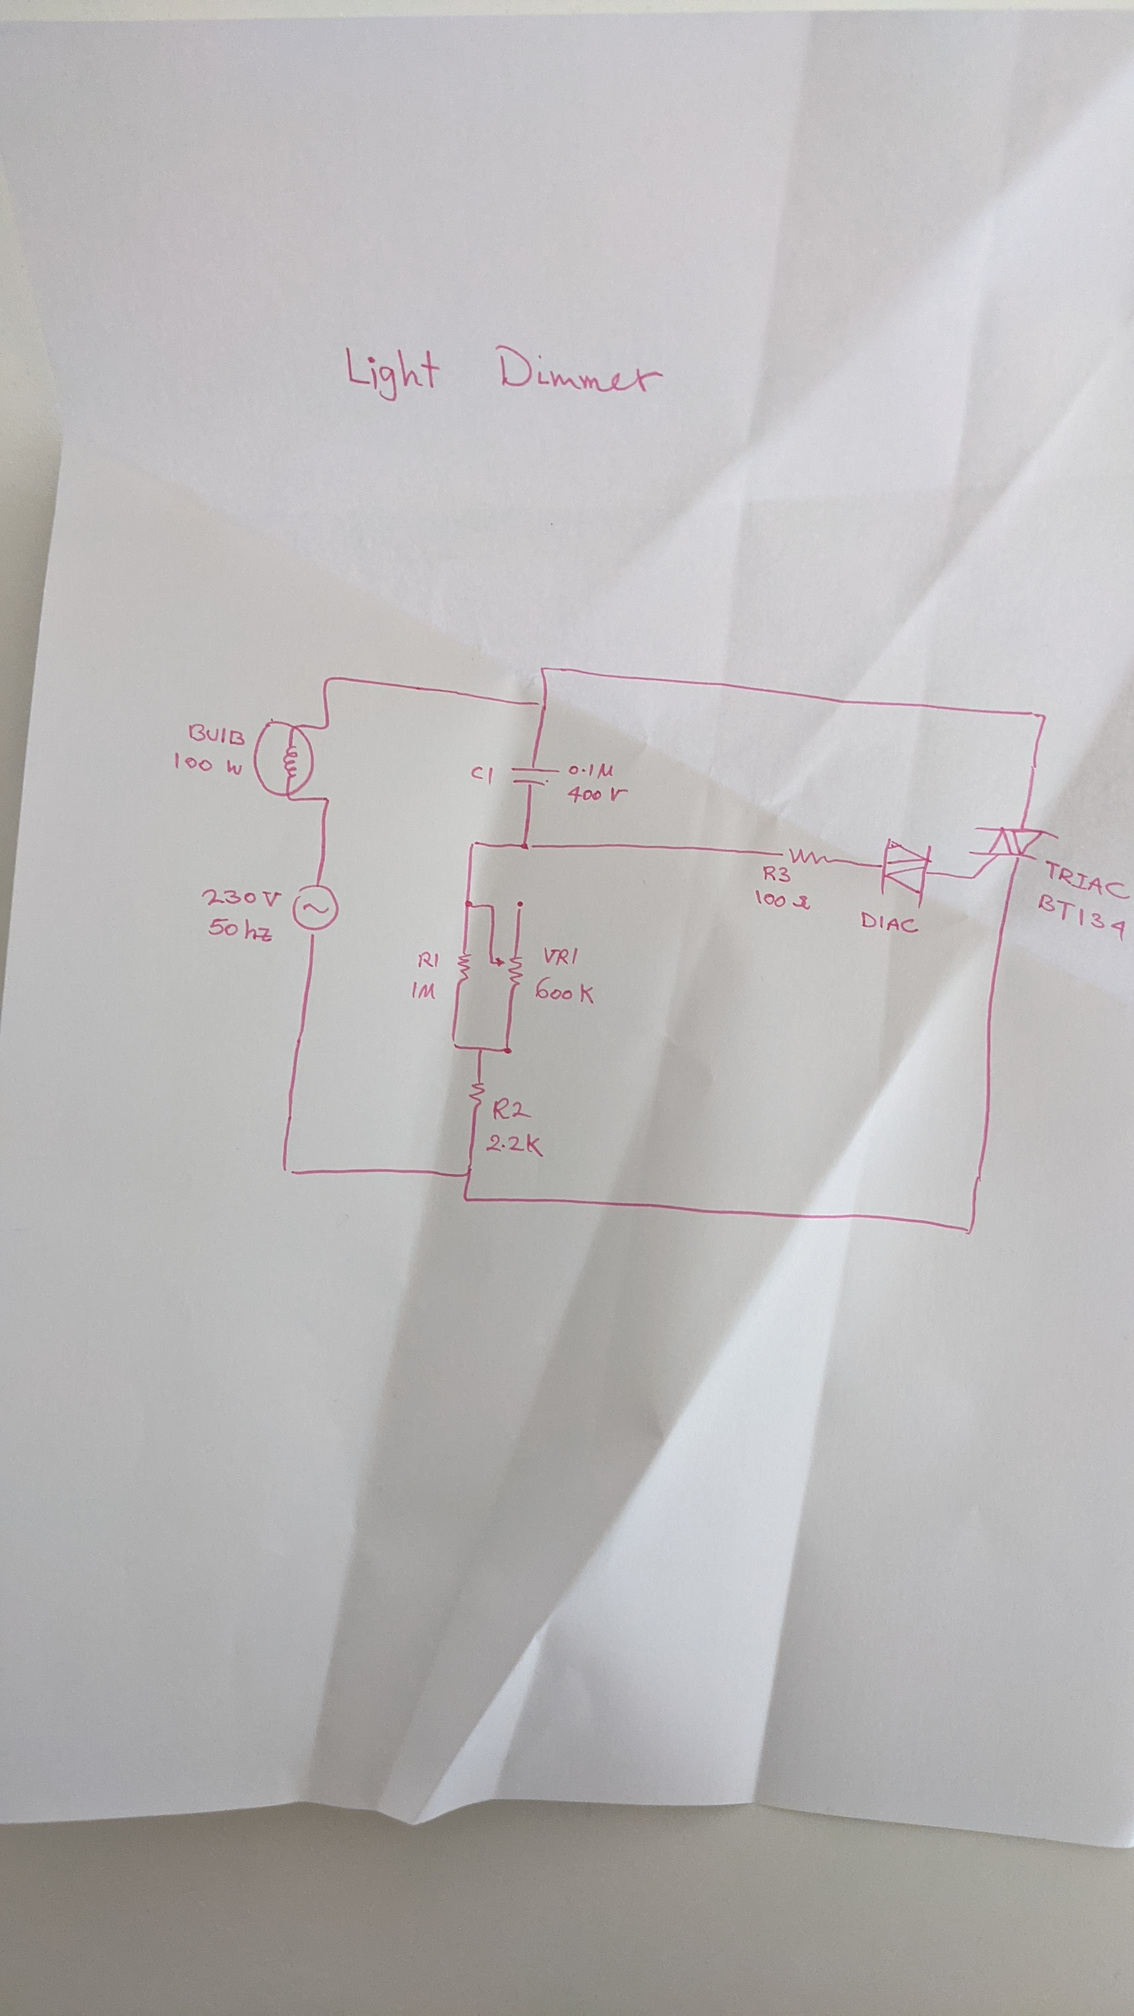capacitor.unpolarized: (507, 762, 562, 791)
diac: (876, 834, 935, 911)
junction: (516, 839, 540, 853), (1030, 709, 1052, 723), (462, 1160, 476, 1180), (961, 1223, 978, 1238), (280, 1163, 296, 1178), (534, 698, 552, 712), (500, 1040, 514, 1056), (467, 838, 480, 852), (514, 899, 528, 912), (474, 1043, 487, 1056), (321, 672, 334, 685), (449, 1036, 461, 1050), (460, 1192, 472, 1205), (462, 899, 476, 910), (320, 793, 332, 804), (320, 721, 332, 732), (537, 663, 548, 674), (486, 901, 498, 911), (966, 872, 979, 882)
lamp: (252, 716, 316, 803)
resistor: (778, 845, 832, 867), (454, 944, 474, 987), (465, 1074, 486, 1110)
resistor.adjustable: (486, 951, 525, 990)
text: (341, 341, 666, 404), (1036, 890, 1128, 944), (1043, 858, 1133, 901), (532, 973, 597, 1007), (172, 750, 245, 780), (206, 914, 276, 944), (199, 886, 287, 908), (485, 1131, 548, 1160), (186, 720, 248, 748), (860, 908, 919, 935), (753, 888, 811, 912), (566, 784, 631, 804), (490, 1095, 534, 1123), (566, 760, 615, 781), (540, 944, 580, 966), (408, 978, 438, 1002), (760, 863, 793, 883), (469, 763, 496, 788), (415, 948, 443, 971)
triac: (965, 824, 1059, 870)
voltage.dc_ac: (291, 881, 342, 937)
